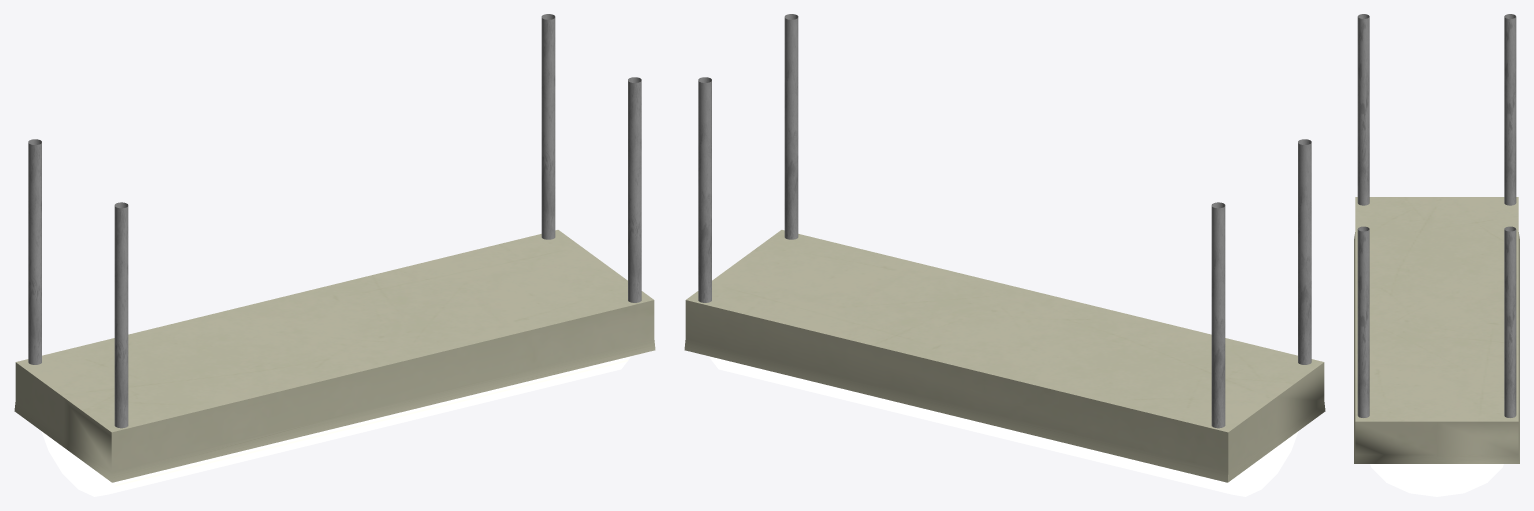
The model's file is canteen light.fbx.
3 renders of one model, left to right at view 1: azimuth 30°, elevation 25°; view 2: azimuth 150°, elevation 25°; view 3: azimuth 270°, elevation 25°, orthographic. The views are drawn at different scales.
Visible parts, largest first — view 1: canteen_light1, light, pCylinder74, pCylinder72, pCylinder73, pCylinder75; view 2: canteen_light1, light, pCylinder75, pCylinder73, pCylinder72, pCylinder74; view 3: canteen_light1, light, pCylinder72, pCylinder73, pCylinder74, pCylinder75.
Boxes of the visible parts, x1=… form: canteen_light1: x1=14, y1=230, x2=655, y2=482; light: x1=41, y1=356, x2=630, y2=496; pCylinder74: x1=541, y1=14, x2=555, y2=239; pCylinder72: x1=114, y1=202, x2=128, y2=428; pCylinder73: x1=28, y1=139, x2=41, y2=364; pCylinder75: x1=628, y1=77, x2=641, y2=302; canteen_light1: x1=684, y1=230, x2=1325, y2=482; light: x1=709, y1=356, x2=1298, y2=496; pCylinder75: x1=784, y1=14, x2=798, y2=239; pCylinder73: x1=1211, y1=202, x2=1225, y2=428; pCylinder72: x1=1298, y1=139, x2=1311, y2=364; pCylinder74: x1=698, y1=77, x2=711, y2=302; canteen_light1: x1=1354, y1=197, x2=1519, y2=463; light: x1=1370, y1=464, x2=1503, y2=496; pCylinder72: x1=1357, y1=14, x2=1369, y2=205; pCylinder73: x1=1504, y1=14, x2=1516, y2=205; pCylinder74: x1=1504, y1=226, x2=1516, y2=417; pCylinder75: x1=1357, y1=226, x2=1369, y2=417.
Bounding box in the file's own units: 196 × 109 × 61.09.
